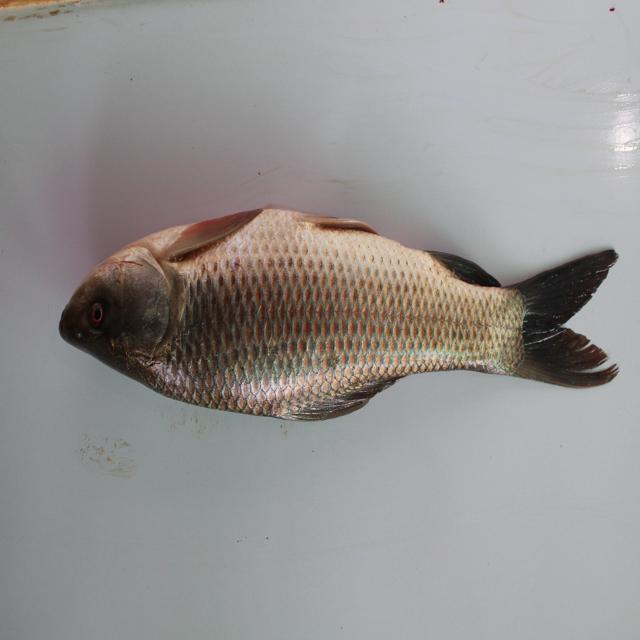Rohu: (59, 232, 624, 418)
